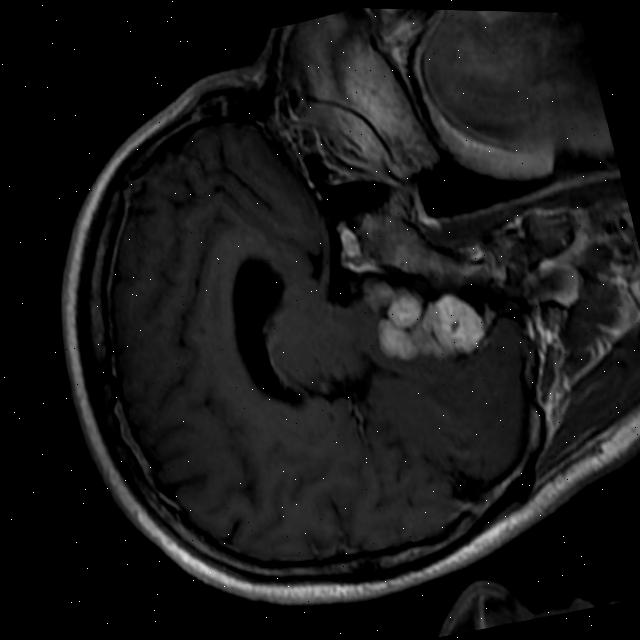Meningioma: (352, 252, 494, 379)
